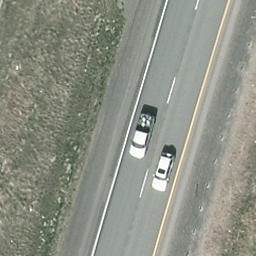car: (151, 152, 176, 193)
pickup: (126, 111, 159, 160)
